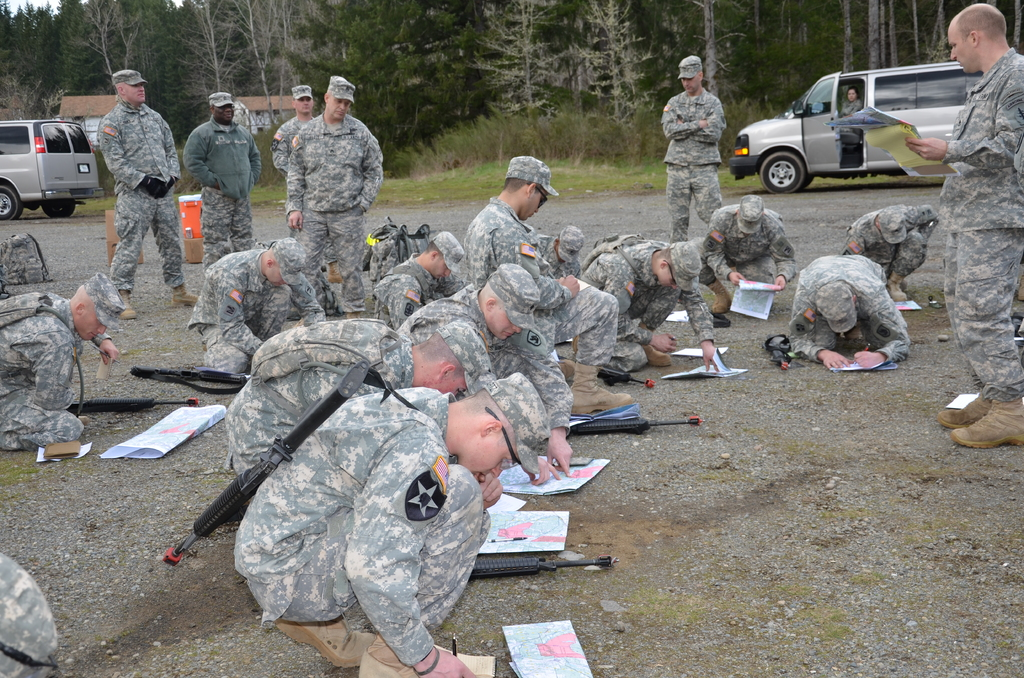Car: (742, 69, 944, 183), (0, 105, 106, 219)
